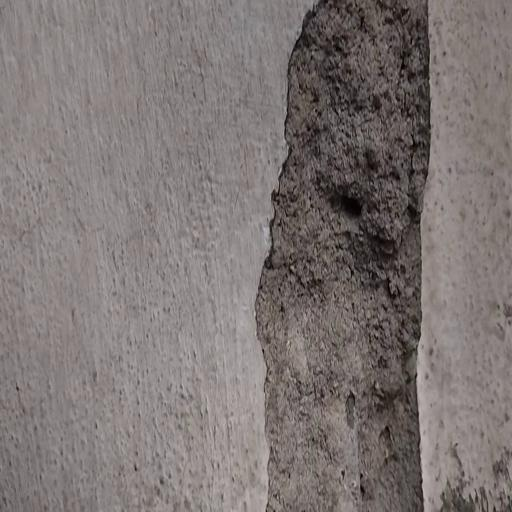spalling: (260, 0, 443, 512)
